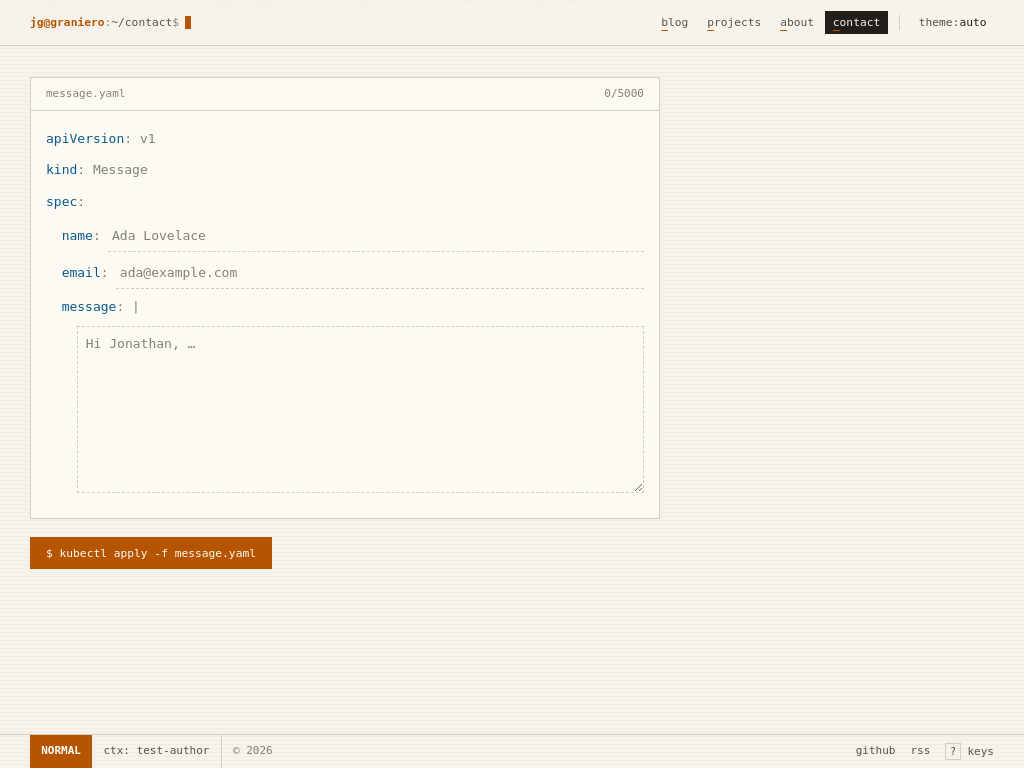
Test: ContactPage › validates fields before submitting
(page scrolled)
Click the button "$ kubectl apply -f message.yaml". click: click(151, 553)
box: [30,537,272,569]
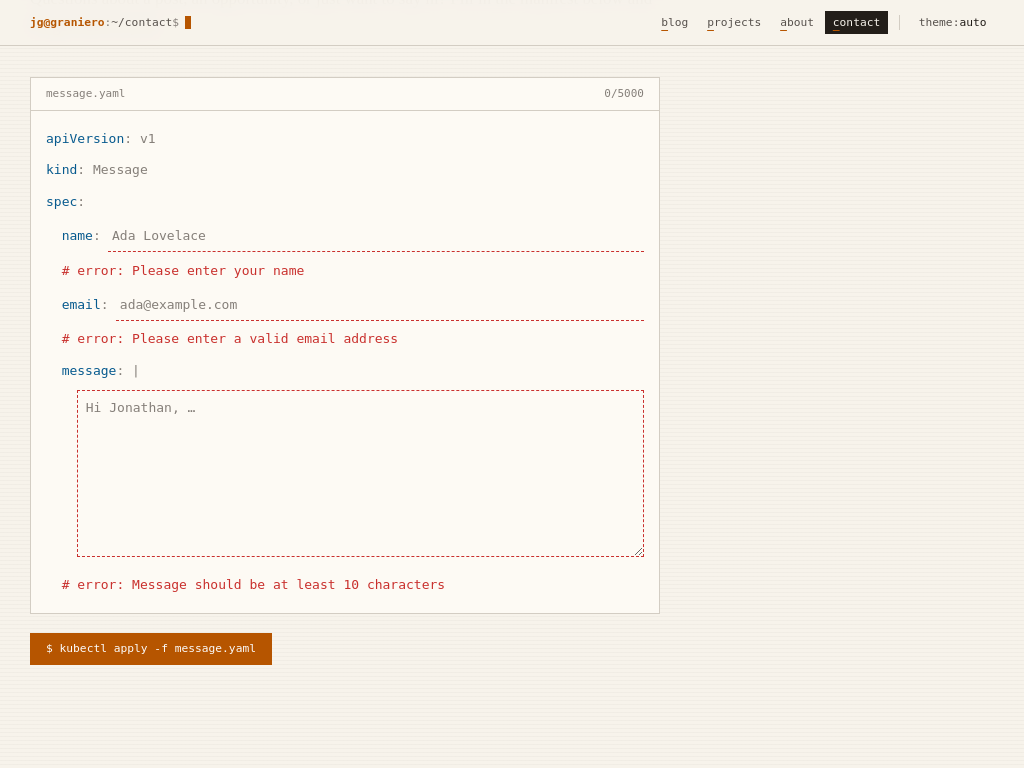
Now the text "# error: Please enter your name" is shown, box [62,263,304,278]
Now the text "# error: Please enter a valid email address" is shown, box [62,331,398,346]
